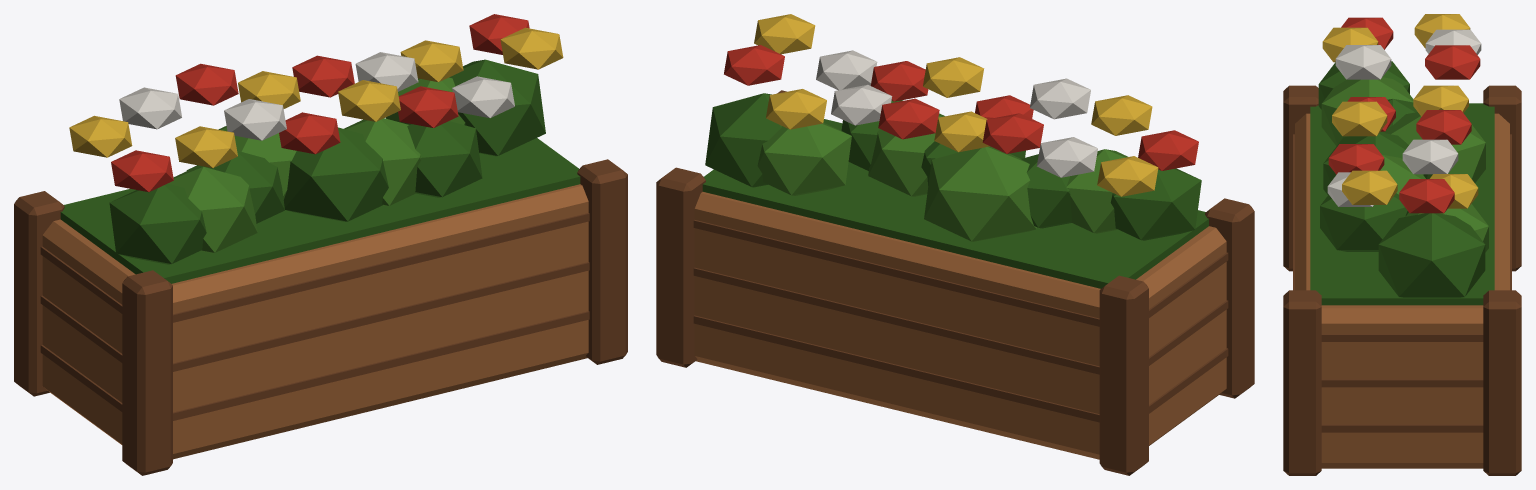
The model's file is planter.glb.
3 renders of one model, left to right at view 1: azimuth 30°, elevation 25°; view 2: azimuth 150°, elevation 25°; view 3: azimuth 270°, elevation 25°, orthographic. The views are drawn at different scales.
Parts seen in each view (by area): view 1: planter; view 2: planter; view 3: planter.
Boxes of the visible parts, left/top/right/bottom form: planter: left=14, top=14, right=627, bottom=475; planter: left=656, top=14, right=1254, bottom=475; planter: left=1283, top=14, right=1521, bottom=475.
Bounding box in the file's own units: 1.36 × 0.8133 × 0.62.
